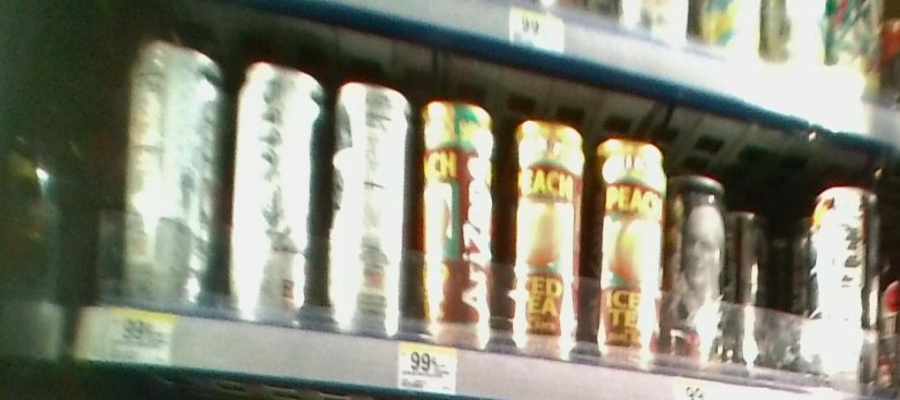bottle: (118, 29, 227, 330), (231, 49, 324, 335), (417, 83, 504, 360), (329, 71, 415, 343), (508, 96, 590, 374), (593, 109, 666, 384), (806, 183, 883, 393), (667, 154, 727, 389), (724, 197, 763, 389)
